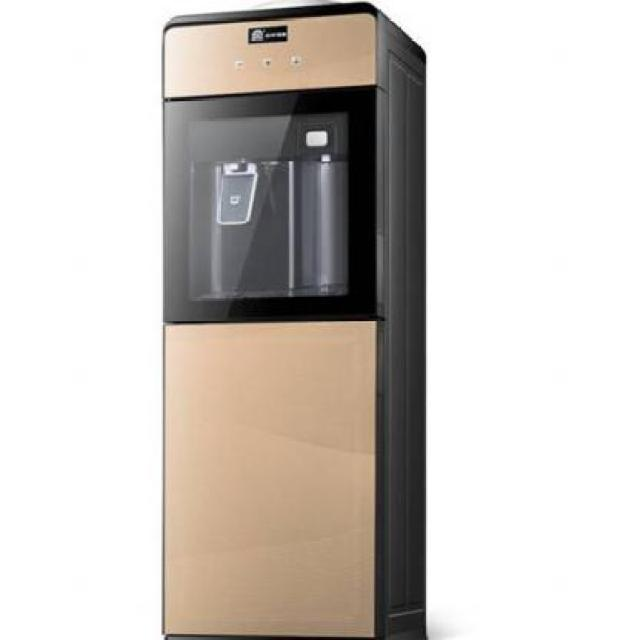cooler: (163, 0, 429, 640)
